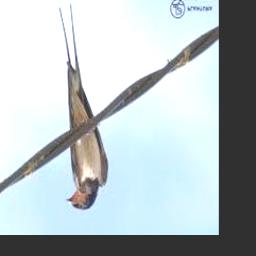Swallow: (58, 4, 108, 210)
